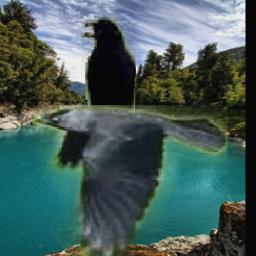Crow: (32, 106, 228, 256), (79, 18, 136, 128)
